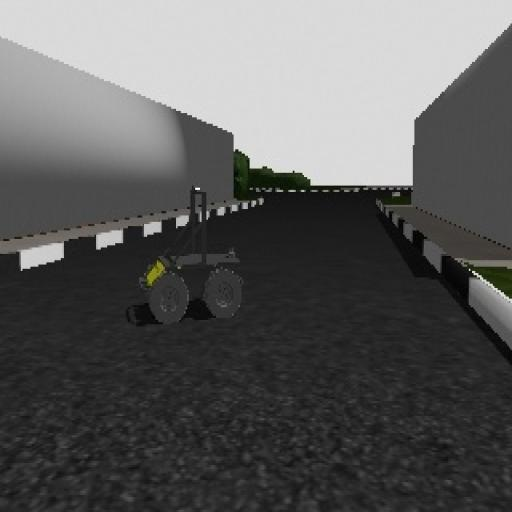huskya200: (130, 176, 262, 328)
